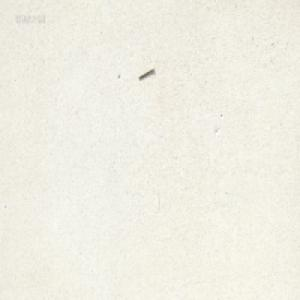Bolt: (138, 67, 154, 79)
